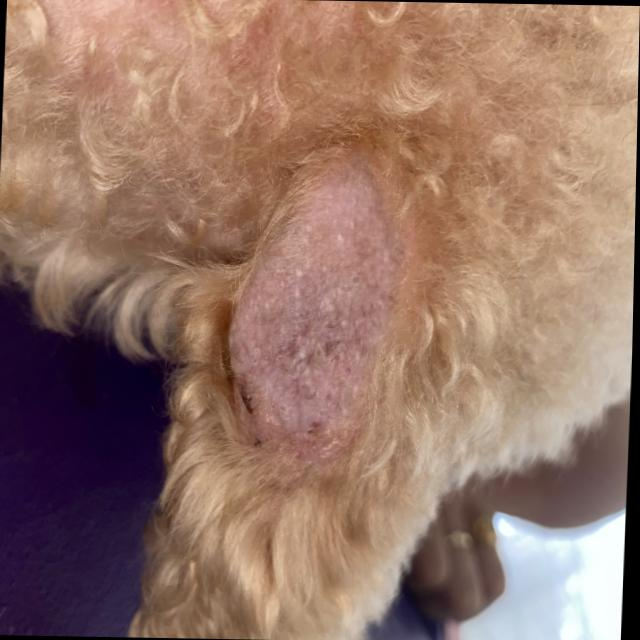ringworm: (216, 109, 434, 472)
